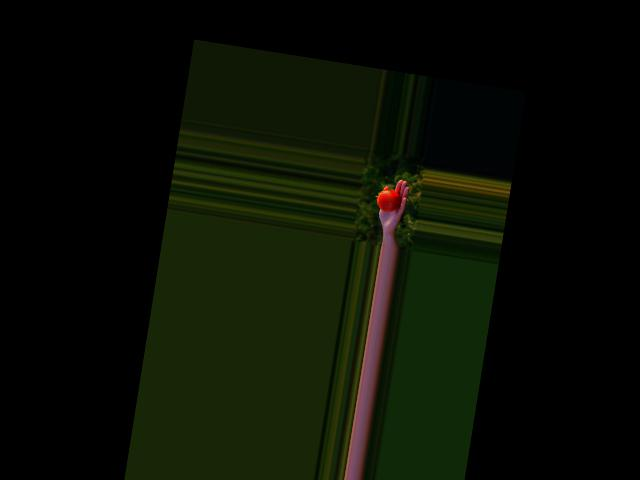tomato: (376, 188, 403, 213)
